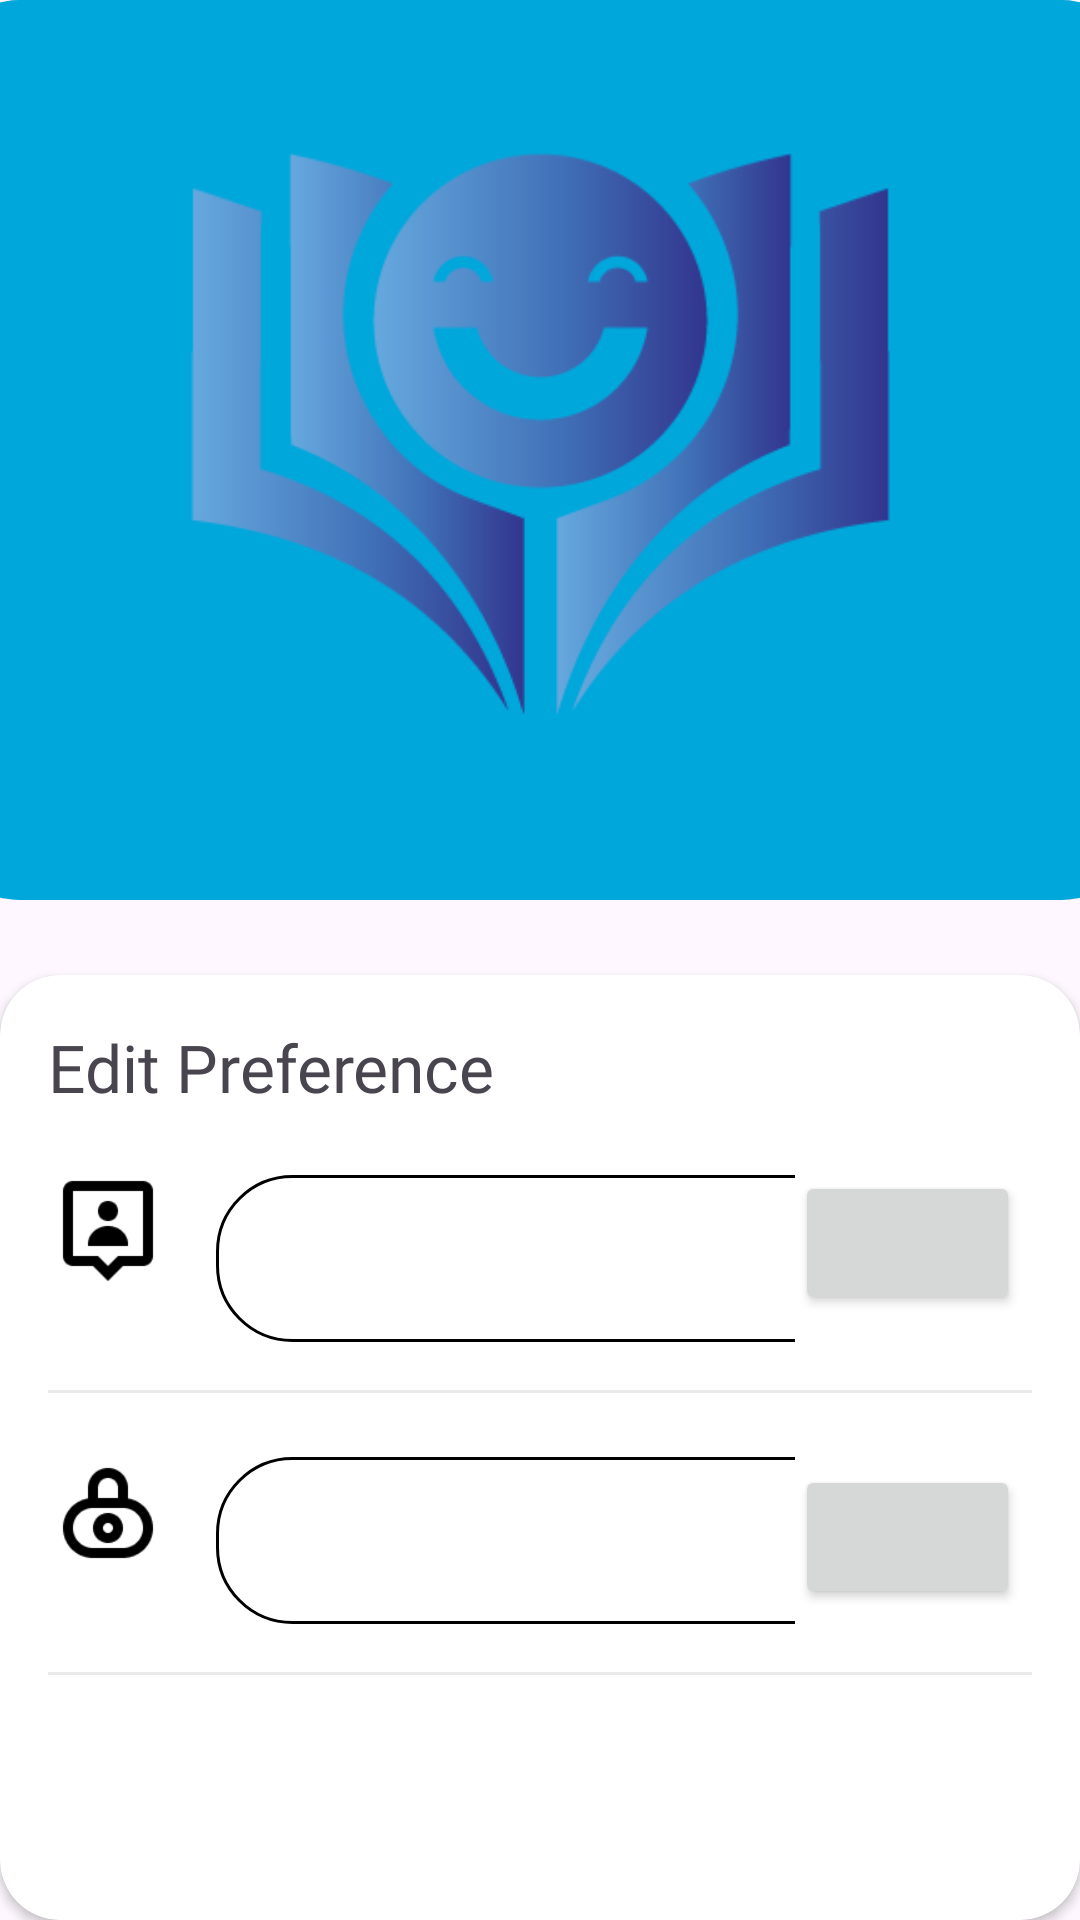

Named icons in this screenshot (1080px x 1920px) and their bounding boxes, (x1, y1, x2, y2):
Password Icon: (62, 1467, 154, 1559)
Username Icon: (62, 1180, 154, 1281)
